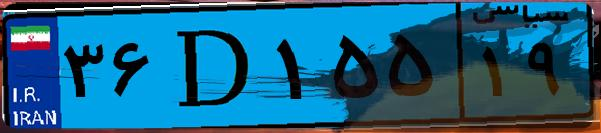1: (270, 28, 330, 110), (475, 38, 525, 113)
3: (57, 26, 110, 100)
5: (385, 28, 445, 110), (330, 28, 385, 110)
6: (110, 28, 158, 98)
9: (525, 38, 570, 115)
D: (158, 12, 270, 120)
